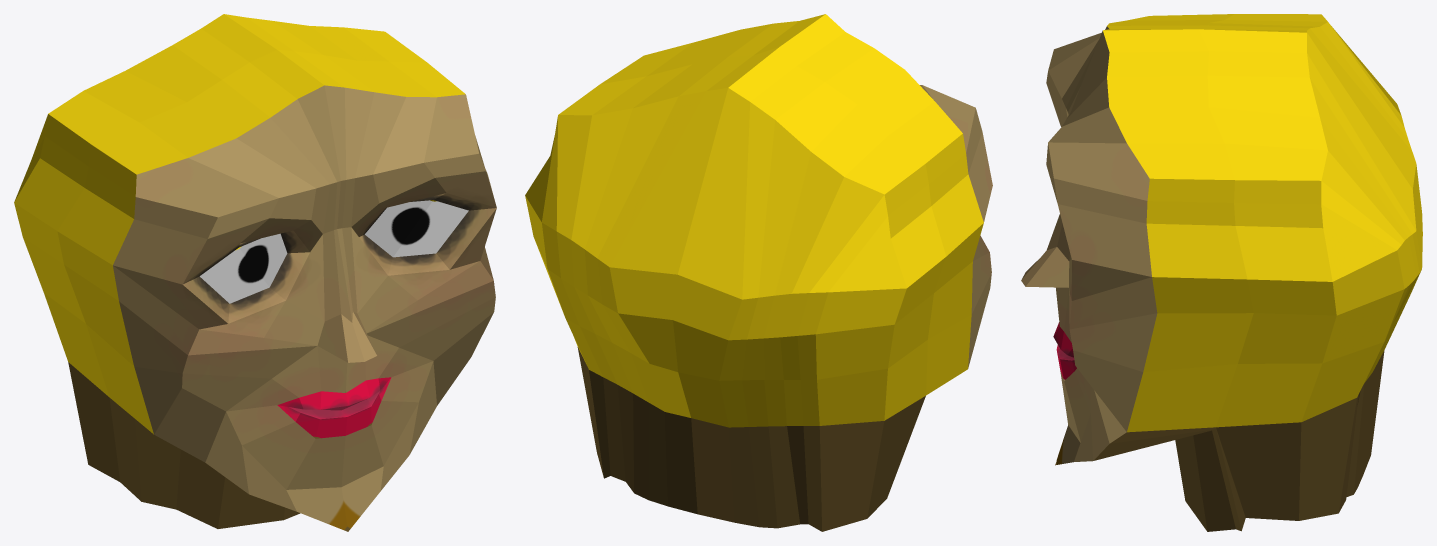
Rendered from Character1.fbx.
3 renders of one model, left to right at view 1: azimuth 30°, elevation 25°; view 2: azimuth 150°, elevation 25°; view 3: azimuth 270°, elevation 25°, orthographic. The views are drawn at different scales.
Parts seen in each view (by area): view 1: Plane; view 2: Plane; view 3: Plane.
Boxes of the visible parts, x1,y1,x2,y2 form: Plane: (14, 14, 496, 531); Plane: (525, 14, 992, 531); Plane: (1021, 14, 1422, 531).
Size of the model in its own units: 326 by 371 by 284.
